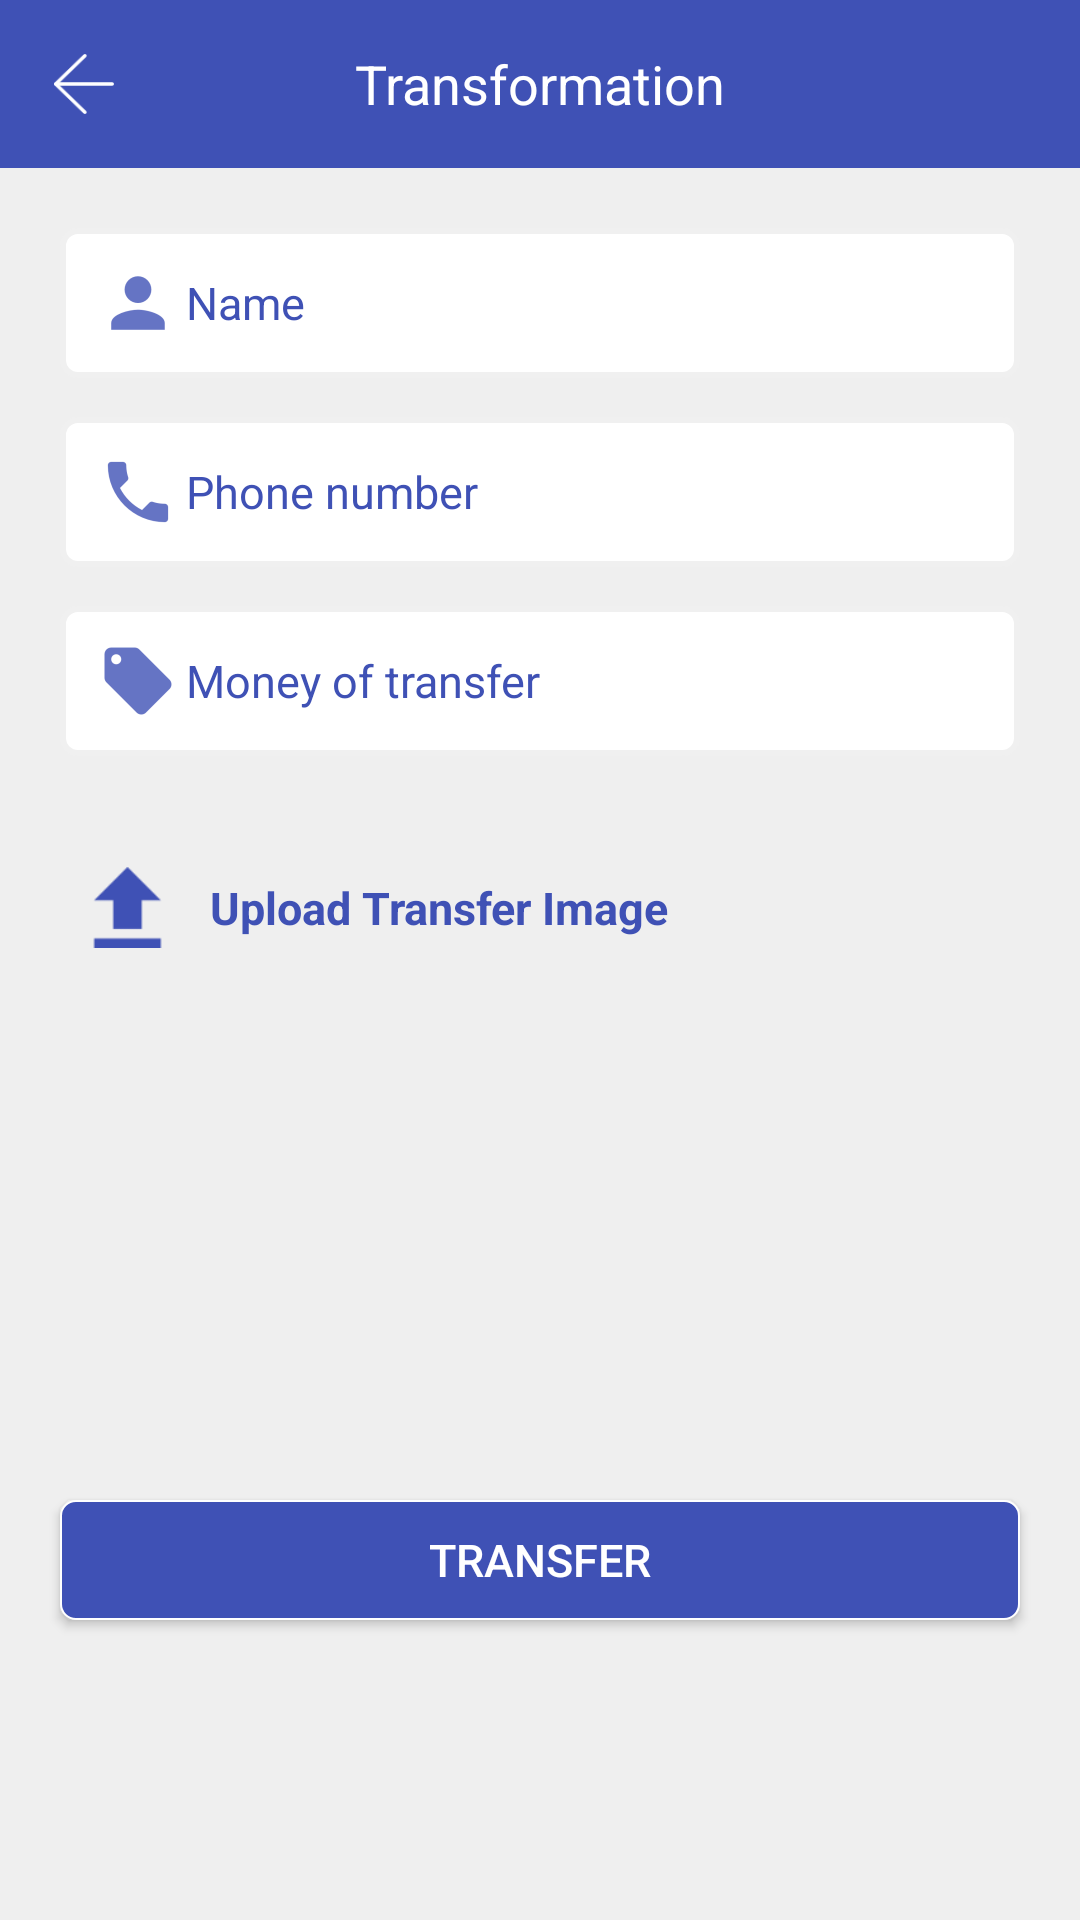

Point at icon controls on the screen. Image size 1080×1920, points as [x,y].
back arrow: [84,84]
